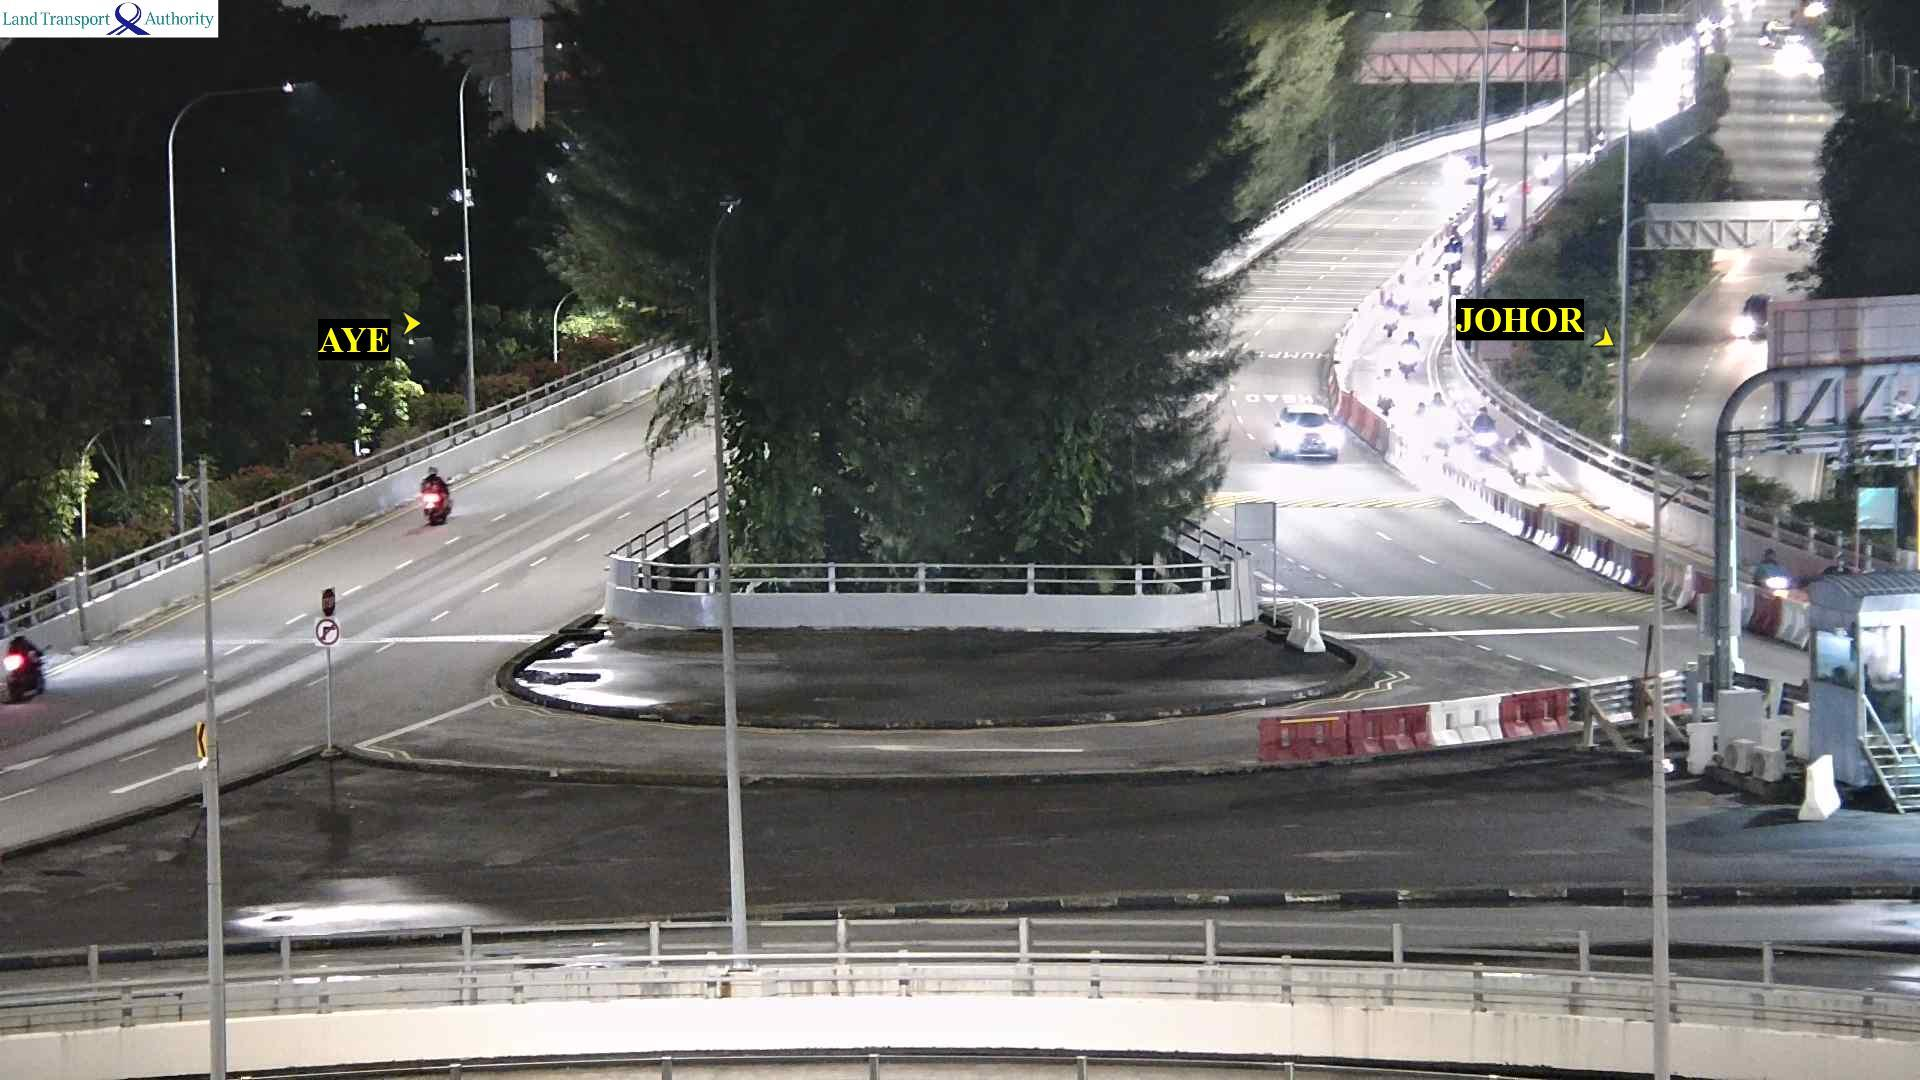vehicle-secondlink-johor: (1269, 405, 1342, 462), (1378, 364, 1403, 418), (1440, 154, 1484, 185), (1509, 427, 1531, 480), (1473, 406, 1491, 459), (1429, 389, 1448, 438), (1410, 396, 1428, 434), (1402, 334, 1419, 375), (1395, 274, 1412, 314), (1428, 272, 1444, 313), (1381, 299, 1398, 336), (1536, 153, 1553, 190), (1447, 224, 1461, 266), (1489, 211, 1506, 233)
vehicle-secondlink-singapore: (0, 638, 46, 703), (418, 469, 459, 527)
